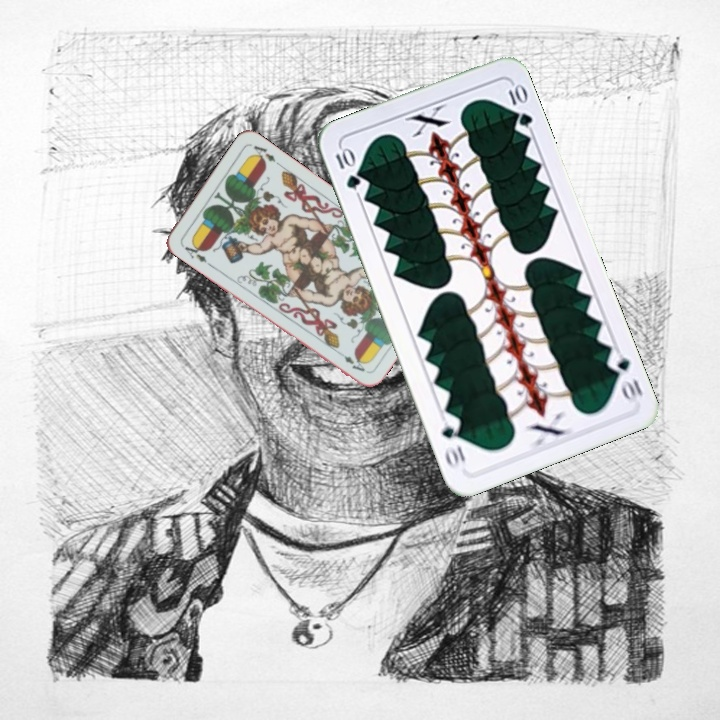EA: (177, 238, 210, 265)
G10: (603, 350, 646, 406), (331, 143, 363, 192)
